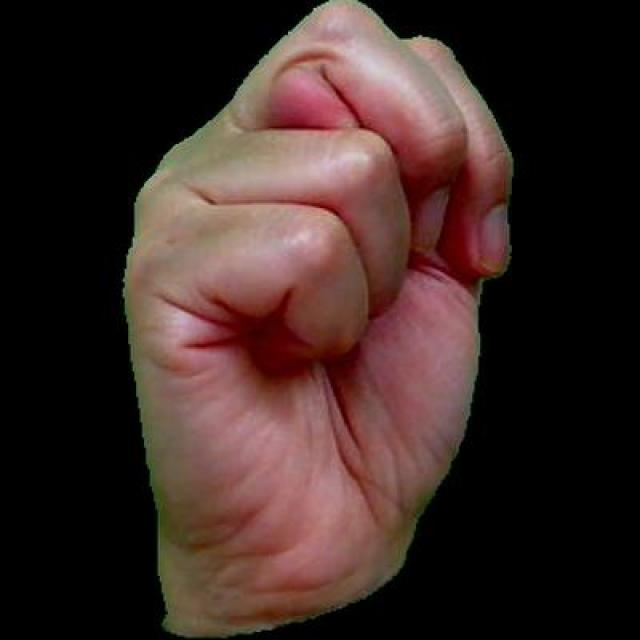n: (100, 0, 534, 637)
